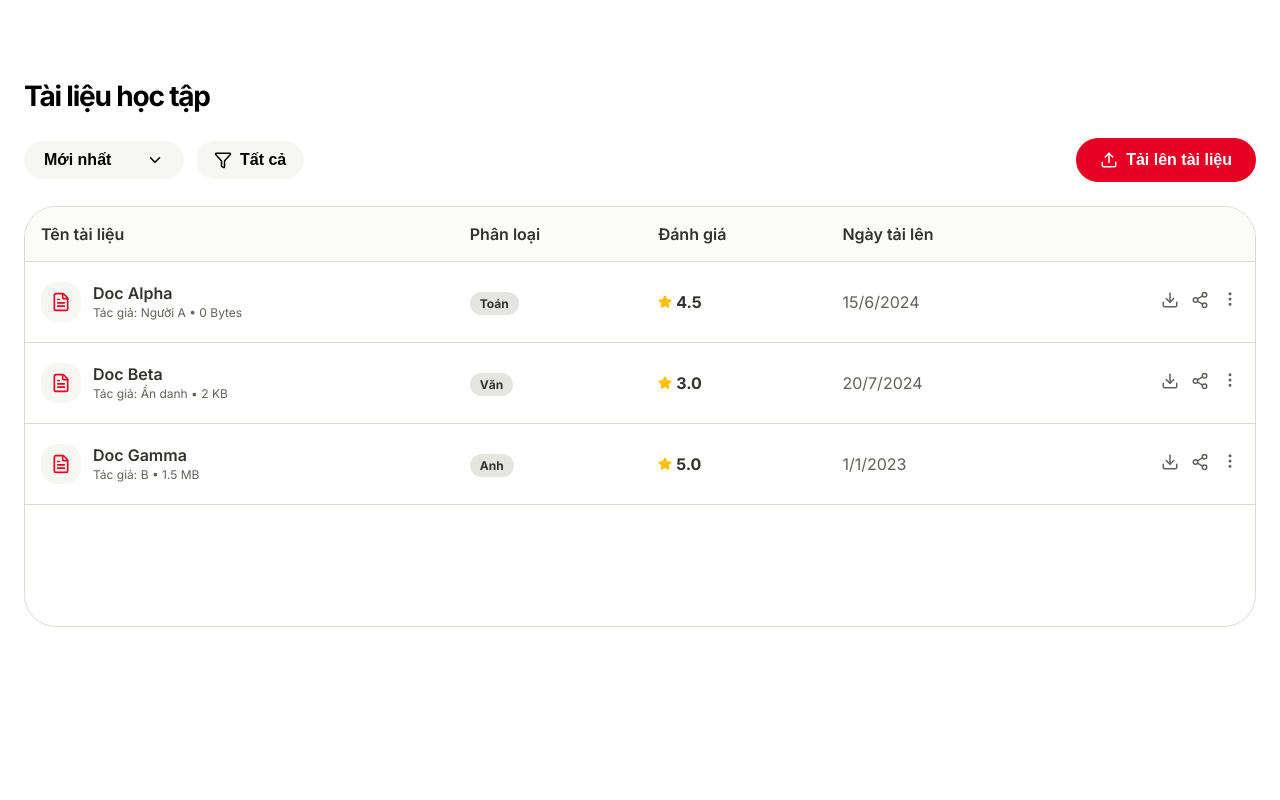
StudyDocs › upload_button_opens_UploadDocModal
Expected: the text "Doc Alpha" is shown, top-left (93, 283), bottom-right (172, 303)
Step 1. Click the button "Tải lên tài liệu" → (1166, 160), box top-left (1076, 138), bottom-right (1256, 182)
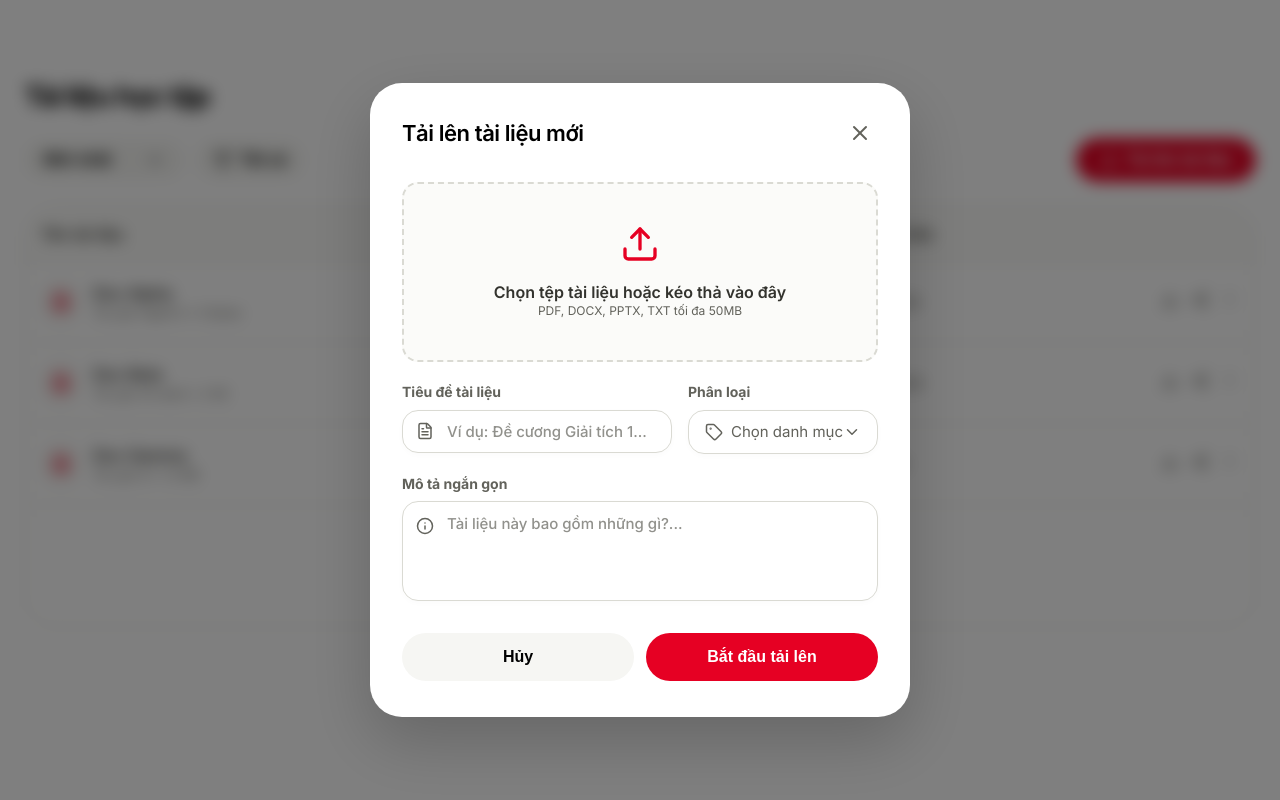
Now the heading "Tải lên tài liệu mới" is shown, box top-left (402, 120), bottom-right (584, 148)
